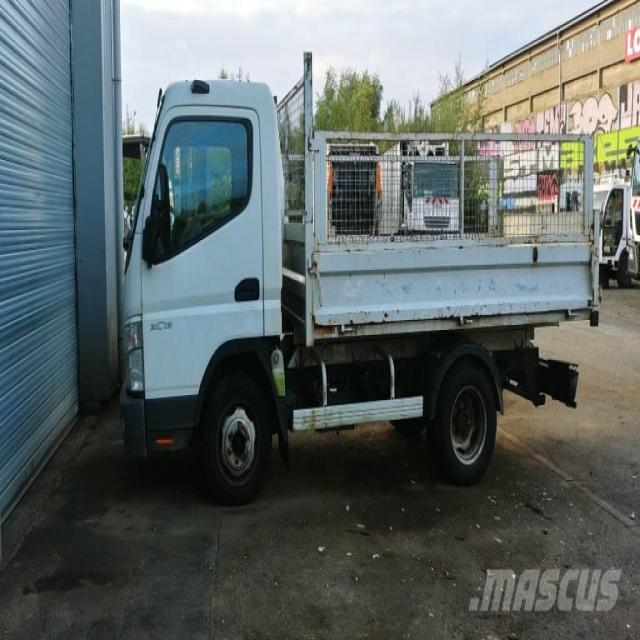truck: (116, 52, 601, 504)
